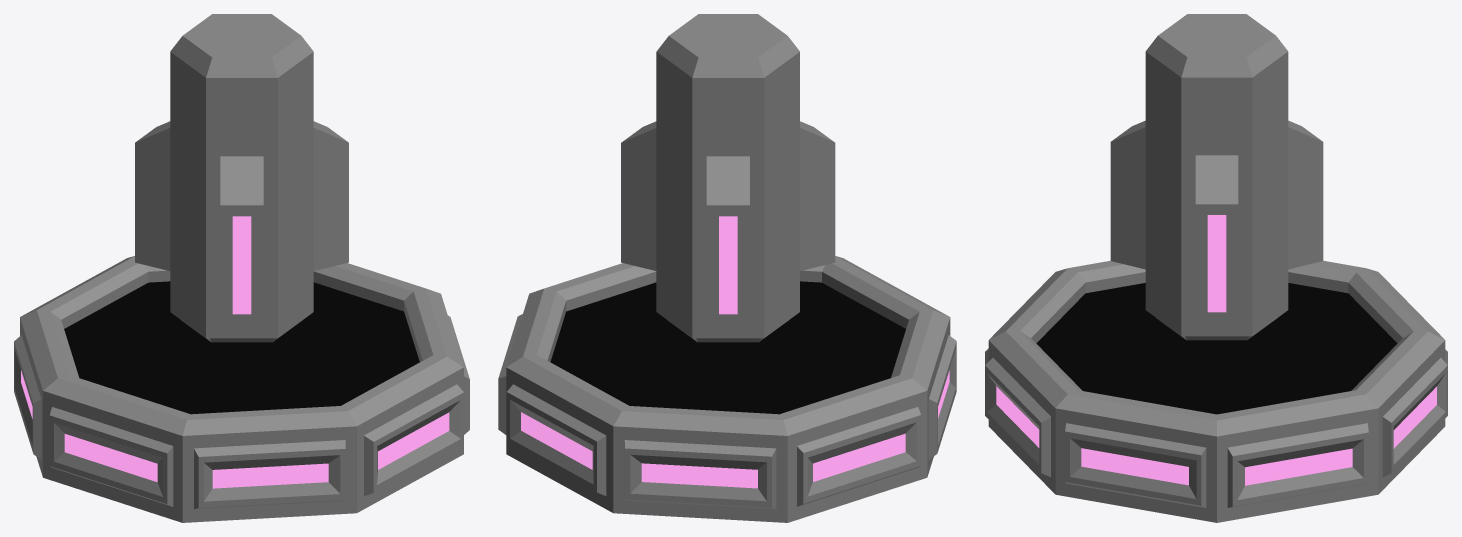
The model's file is rocket-global-coll.glb.
The picture shows the model from 3 angles, left to right: view 1: azimuth 30°, elevation 25°; view 2: azimuth 150°, elevation 25°; view 3: azimuth 270°, elevation 25°; orthographic projection.
Parts seen in each view (by area): view 1: Circle_Mesh, rocket_Mesh; view 2: Circle_Mesh, rocket_Mesh; view 3: Circle_Mesh, rocket_Mesh.
Part boxes in pixels (left/top/right/bottom): Circle_Mesh: left=14, top=256, right=469, bottom=522; rocket_Mesh: left=135, top=14, right=348, bottom=342; Circle_Mesh: left=498, top=256, right=956, bottom=522; rocket_Mesh: left=621, top=14, right=835, bottom=342; Circle_Mesh: left=985, top=260, right=1447, bottom=522; rocket_Mesh: left=1110, top=14, right=1323, bottom=340.
Size of what is drawn, in the model's own units: 3.24 by 3.02 by 3.24.
